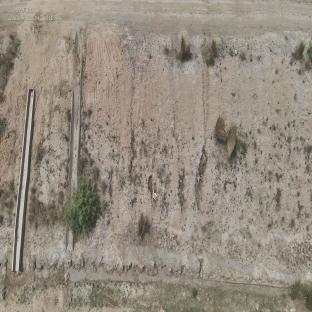slope_drain: (63, 32, 85, 255), (10, 88, 36, 274)
toe_drain: (1, 263, 294, 296)
vegetation: (65, 174, 104, 236)
